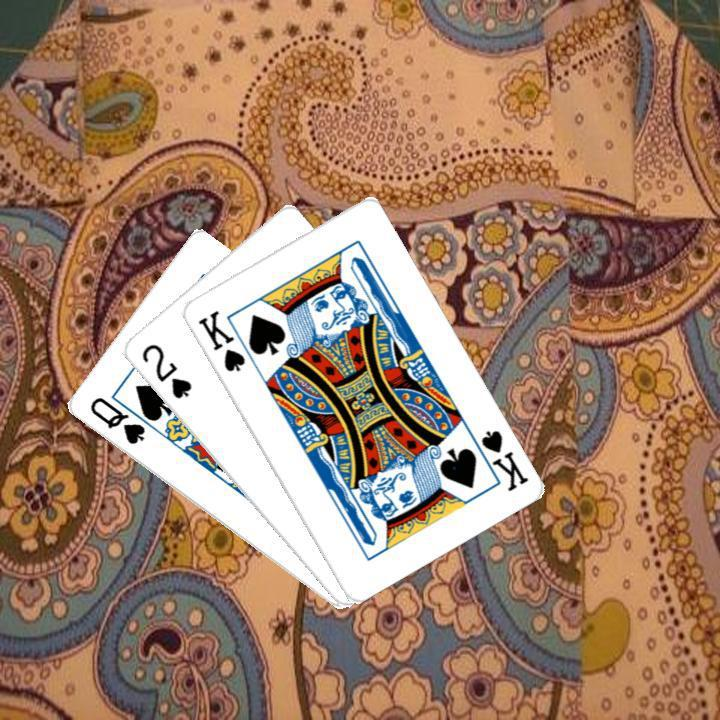2: (136, 339, 194, 401)
K: (464, 425, 530, 494), (193, 306, 247, 374)
Q: (85, 392, 147, 447)
